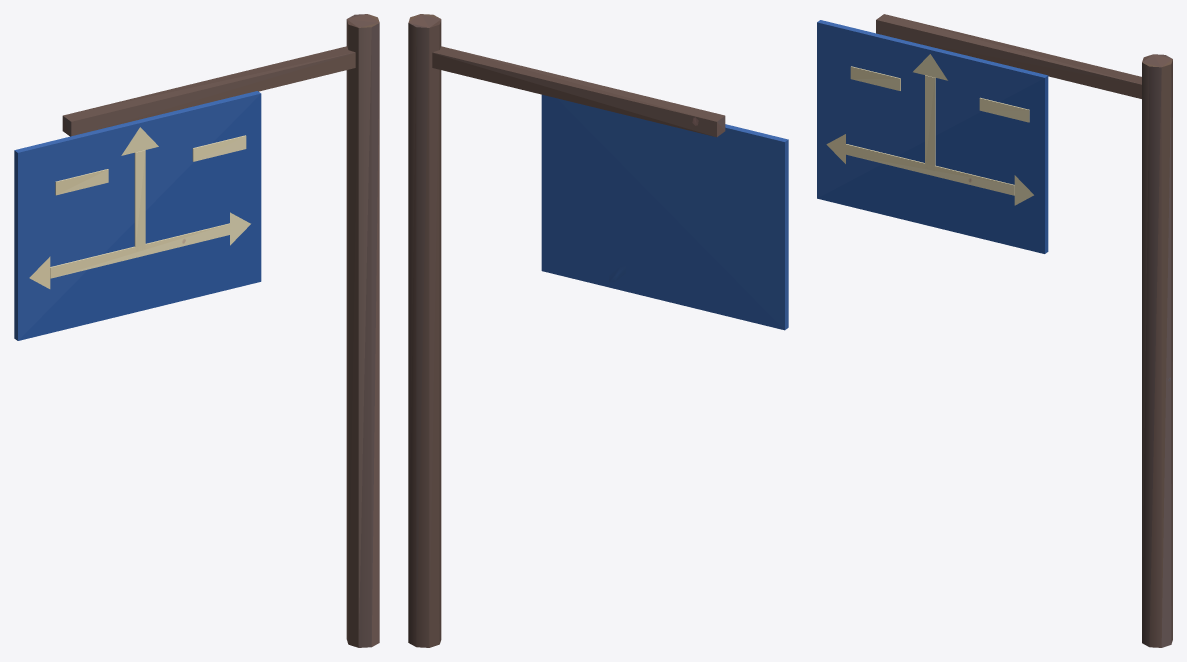
Rendered from HK_Sign_Guide.lod.glb.
3 views of the same model, side by side, from view 1: azimuth 30°, elevation 25°; view 2: azimuth 150°, elevation 25°; view 3: azimuth 330°, elevation 25° (orthographic). The views are drawn at different scales.
Parts seen in each view (by area): view 1: HK_Sign_Guide; view 2: HK_Sign_Guide; view 3: HK_Sign_Guide.
Part boxes in pixels (left/top/right/bottom): HK_Sign_Guide: left=14, top=14, right=379, bottom=647; HK_Sign_Guide: left=408, top=14, right=788, bottom=647; HK_Sign_Guide: left=817, top=14, right=1172, bottom=647.
Size of the model in its own units: 3.49 by 5.6 by 0.3105.
